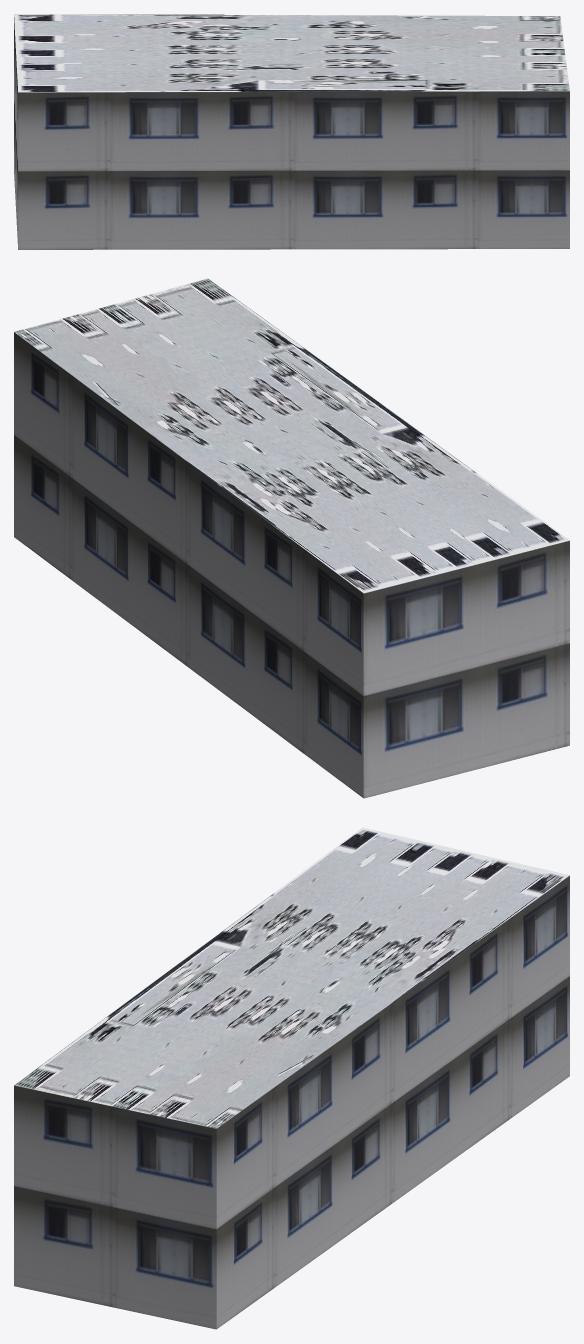
Rendered from ResTex__351.fbx.
3 renders of one model, top to bottom at view 1: azimuth 30°, elevation 25°; view 2: azimuth 150°, elevation 25°; view 3: azimuth 270°, elevation 25°, orthographic. The views are drawn at different scales.
Visible parts, largest first — view 1: CityEngineMaterial_9_m, CityEngineMaterial_4_m; view 2: CityEngineMaterial_9_m, CityEngineMaterial_4_m; view 3: CityEngineMaterial_9_m, CityEngineMaterial_4_m.
Boxes of the visible parts, x1,y1,x2,y2 form: CityEngineMaterial_9_m: (14,17,569,249); CityEngineMaterial_4_m: (14,14,569,92); CityEngineMaterial_9_m: (14,332,569,798); CityEngineMaterial_4_m: (14,278,569,593); CityEngineMaterial_9_m: (14,875,569,1329); CityEngineMaterial_4_m: (14,827,569,1128).
Size of the model in its own units: 19.31 by 6 by 15.06.
Materials: 2 (2 with a texture image).
